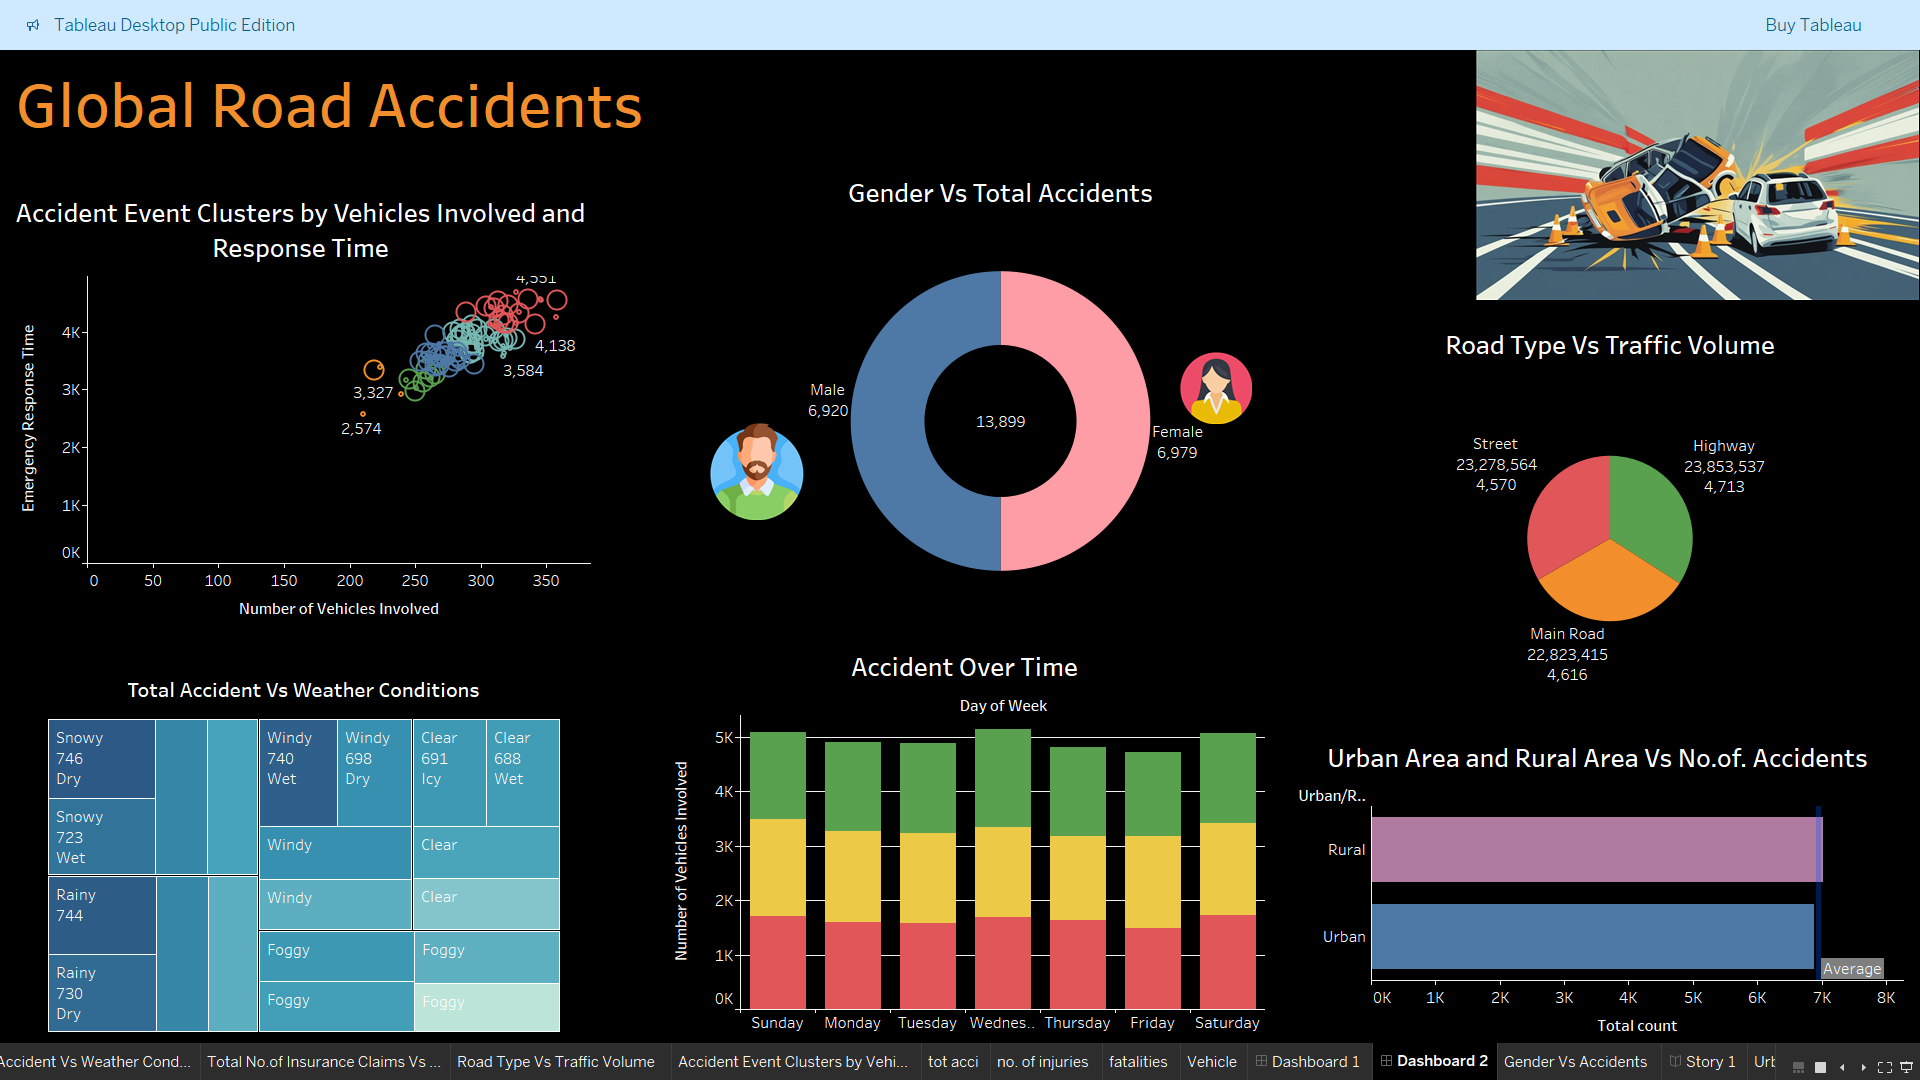

This screenshot's page, from the dashboard's own definition file:
{"tool":"tableau","page":{"name":"Dashboard 2","canvas":[1000,1000],"units":"permille","ordinal":1},"visuals":[{"type":"image","param":"Image/road accident image for dashboard light background colorcolor.jpg","box":[768.9,0,230.5,270.9]},{"type":"title","box":[4.8,10,990.3,112.4]},{"type":"worksheet","title":"Gender Vs Accidents","mark":"Pie","rows":["Calculation_834010359500484608","Calculation_834010359500484608"],"box":[392.3,122.4,257.7,453.2]},{"type":"worksheet","title":"Accident Event Clusters by Vehicles Involved and Response Time","mark":"Automatic","rows":["Emergency Response Time"],"cols":["Number of Vehicles Involved"],"box":[5.4,142.3,302.4,438.2]},{"type":"worksheet","title":"Road Type Vs Traffic Volume","mark":"Pie","box":[724.2,274.7,229.3,383.3]},{"type":"image","param":"Image/woman.png","box":[614.4,304.6,45.9,72.4]},{"type":"image","param":"Image/man.png","box":[368.7,375.8,50.7,101.1]},{"type":"worksheet","title":"Accident over time","mark":"Automatic","rows":["Number of Vehicles Involved"],"cols":["Day of Week"],"box":[345.2,599.2,313.8,392]},{"type":"worksheet","title":"Total Accident Vs Weather Conditions","mark":"Automatic","box":[22.3,625.5,321.1,368.3]},{"type":"worksheet","title":"Urban rural","mark":"Automatic","rows":["Urban/Rural"],"cols":["Calculation_1302666195686506496"],"box":[672.3,690.4,319.2,309.6]}]}

Visuals, with their boxes on the dashboard's canvas, which has no fixed pixel size, in thousandths of its width and height (x1, y1, x2, y2). These are canvas units, not pixel positions in the 1920x1080 screenshot, which may show the page scaled, cropped or inside an application window:
image: {"left": 769, "top": 0, "right": 999, "bottom": 271}
title: {"left": 5, "top": 10, "right": 995, "bottom": 122}
"Gender Vs Accidents" worksheet (Pie marks): {"left": 392, "top": 122, "right": 650, "bottom": 576}
"Accident Event Clusters by Vehicles Involved and Response Time" worksheet: {"left": 5, "top": 142, "right": 308, "bottom": 580}
"Road Type Vs Traffic Volume" worksheet (Pie marks): {"left": 724, "top": 275, "right": 954, "bottom": 658}
image: {"left": 614, "top": 305, "right": 660, "bottom": 377}
image: {"left": 369, "top": 376, "right": 419, "bottom": 477}
"Accident over time" worksheet: {"left": 345, "top": 599, "right": 659, "bottom": 991}
"Total Accident Vs Weather Conditions" worksheet: {"left": 22, "top": 626, "right": 343, "bottom": 994}
"Urban rural" worksheet: {"left": 672, "top": 690, "right": 992, "bottom": 1000}
